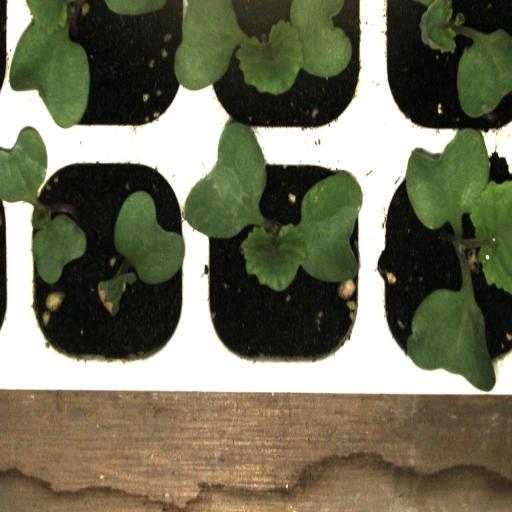seedling: (198, 146, 372, 372), (370, 148, 512, 374), (199, 2, 372, 139)
twoseedling: (18, 148, 199, 372)
weak: (19, 150, 196, 375)
